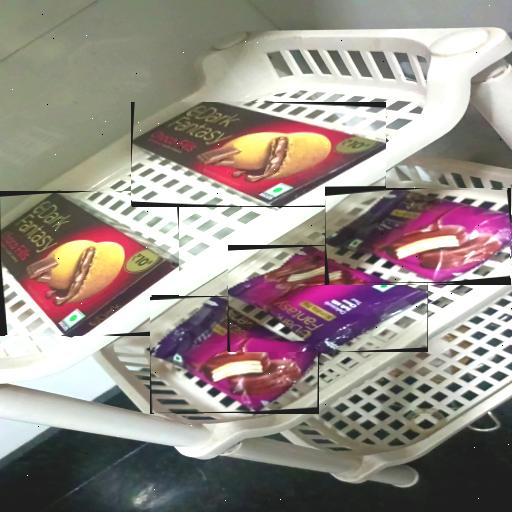Choco Fills: (132, 102, 386, 206), (1, 193, 179, 335)
Choco Pie: (228, 247, 428, 352), (150, 297, 318, 411), (326, 190, 510, 283)
